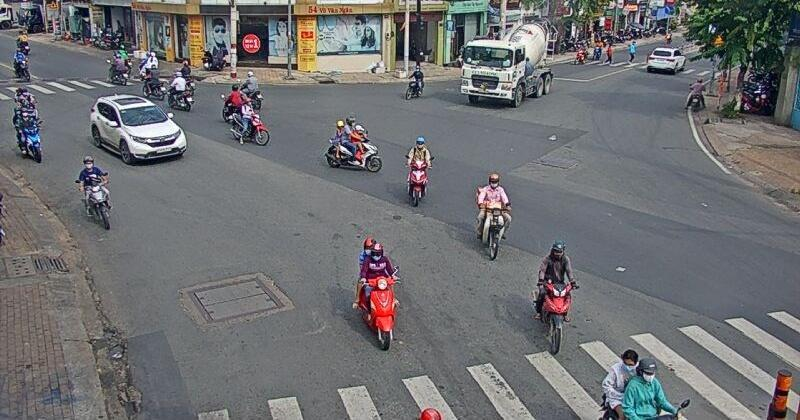xe hoi: (90, 93, 186, 164)
xe may: (353, 237, 400, 350), (533, 239, 571, 353), (324, 117, 383, 173), (476, 173, 511, 261), (74, 155, 111, 230), (404, 136, 434, 207), (230, 98, 271, 147), (11, 106, 43, 163), (166, 71, 193, 110)
xe tai: (458, 23, 551, 108)
